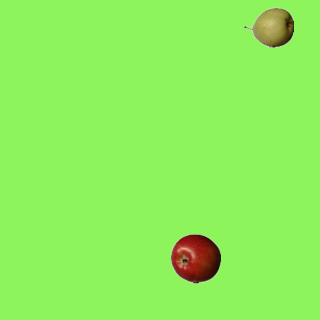Apple Braeburn: (170, 233, 220, 283)
Pear: (243, 2, 293, 52)
